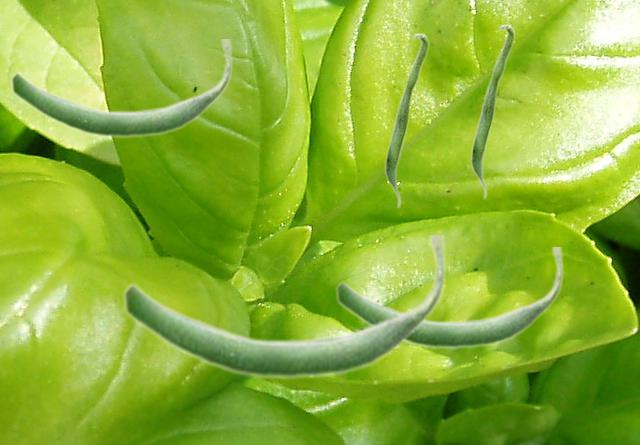french_bean: (122, 235, 446, 380), (335, 247, 563, 349), (10, 39, 232, 138), (384, 32, 428, 208), (470, 23, 514, 199)
